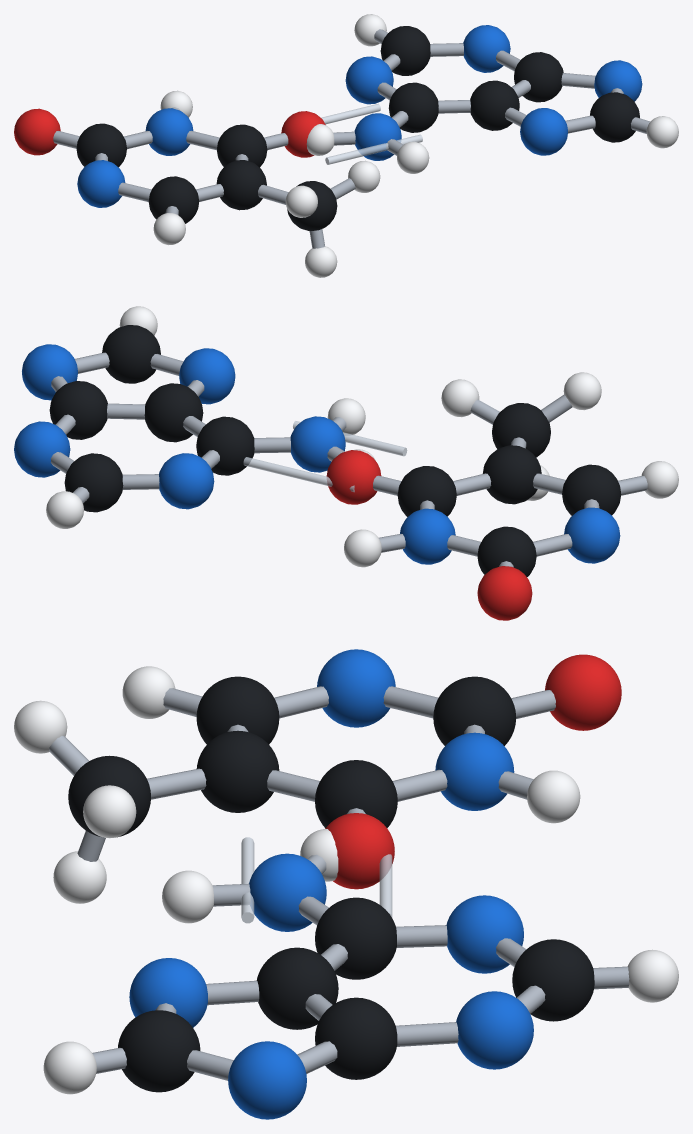
Rendered from cift_AT.glb.
3 views of the same model, one above another, from view 1: azimuth 30°, elevation 25°; view 2: azimuth 150°, elevation 25°; view 3: azimuth 270°, elevation 25° (orthographic). The views are drawn at different scales.
Parts seen in each view (by area): view 1: Baza_A, Baza_T, Cift_AT; view 2: Baza_A, Baza_T, Cift_AT; view 3: Baza_A, Baza_T, Cift_AT.
Part boxes in pixels (x1=…): Baza_A: x1=306, y1=14, x2=678, y2=173; Baza_T: x1=14, y1=90, x2=380, y2=277; Cift_AT: x1=321, y1=103, x2=422, y2=164; Baza_A: x1=14, y1=306, x2=375, y2=528; Baza_T: x1=326, y1=372, x2=678, y2=620; Cift_AT: x1=243, y1=421, x2=407, y2=492; Baza_A: x1=43, y1=829, x2=678, y2=1119; Baza_T: x1=14, y1=649, x2=621, y2=903; Cift_AT: x1=241, y1=837, x2=392, y2=923.
Bounding box in the file's own units: 3.57 × 0.679 × 2.36.
